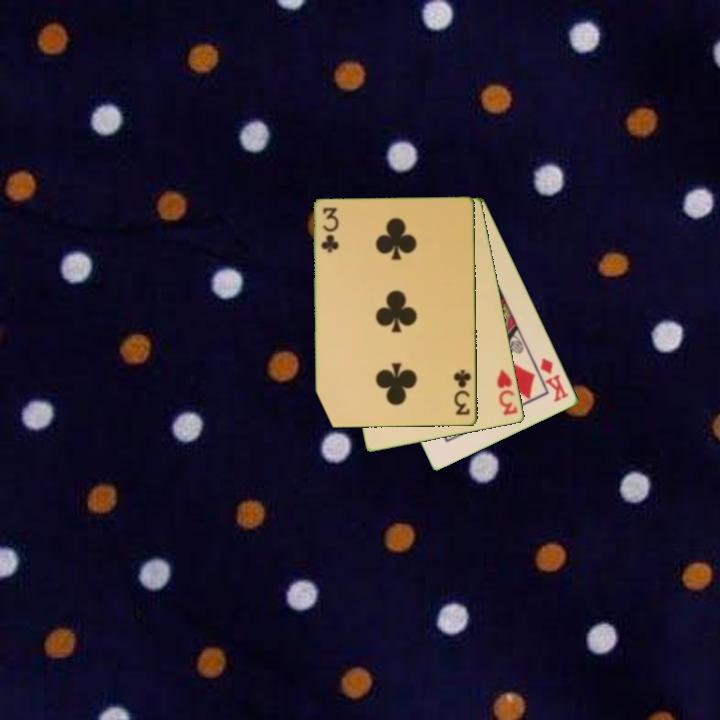3c: (450, 367, 474, 418), (318, 204, 339, 256)
3h: (494, 366, 521, 418)
Kd: (537, 354, 572, 405)
